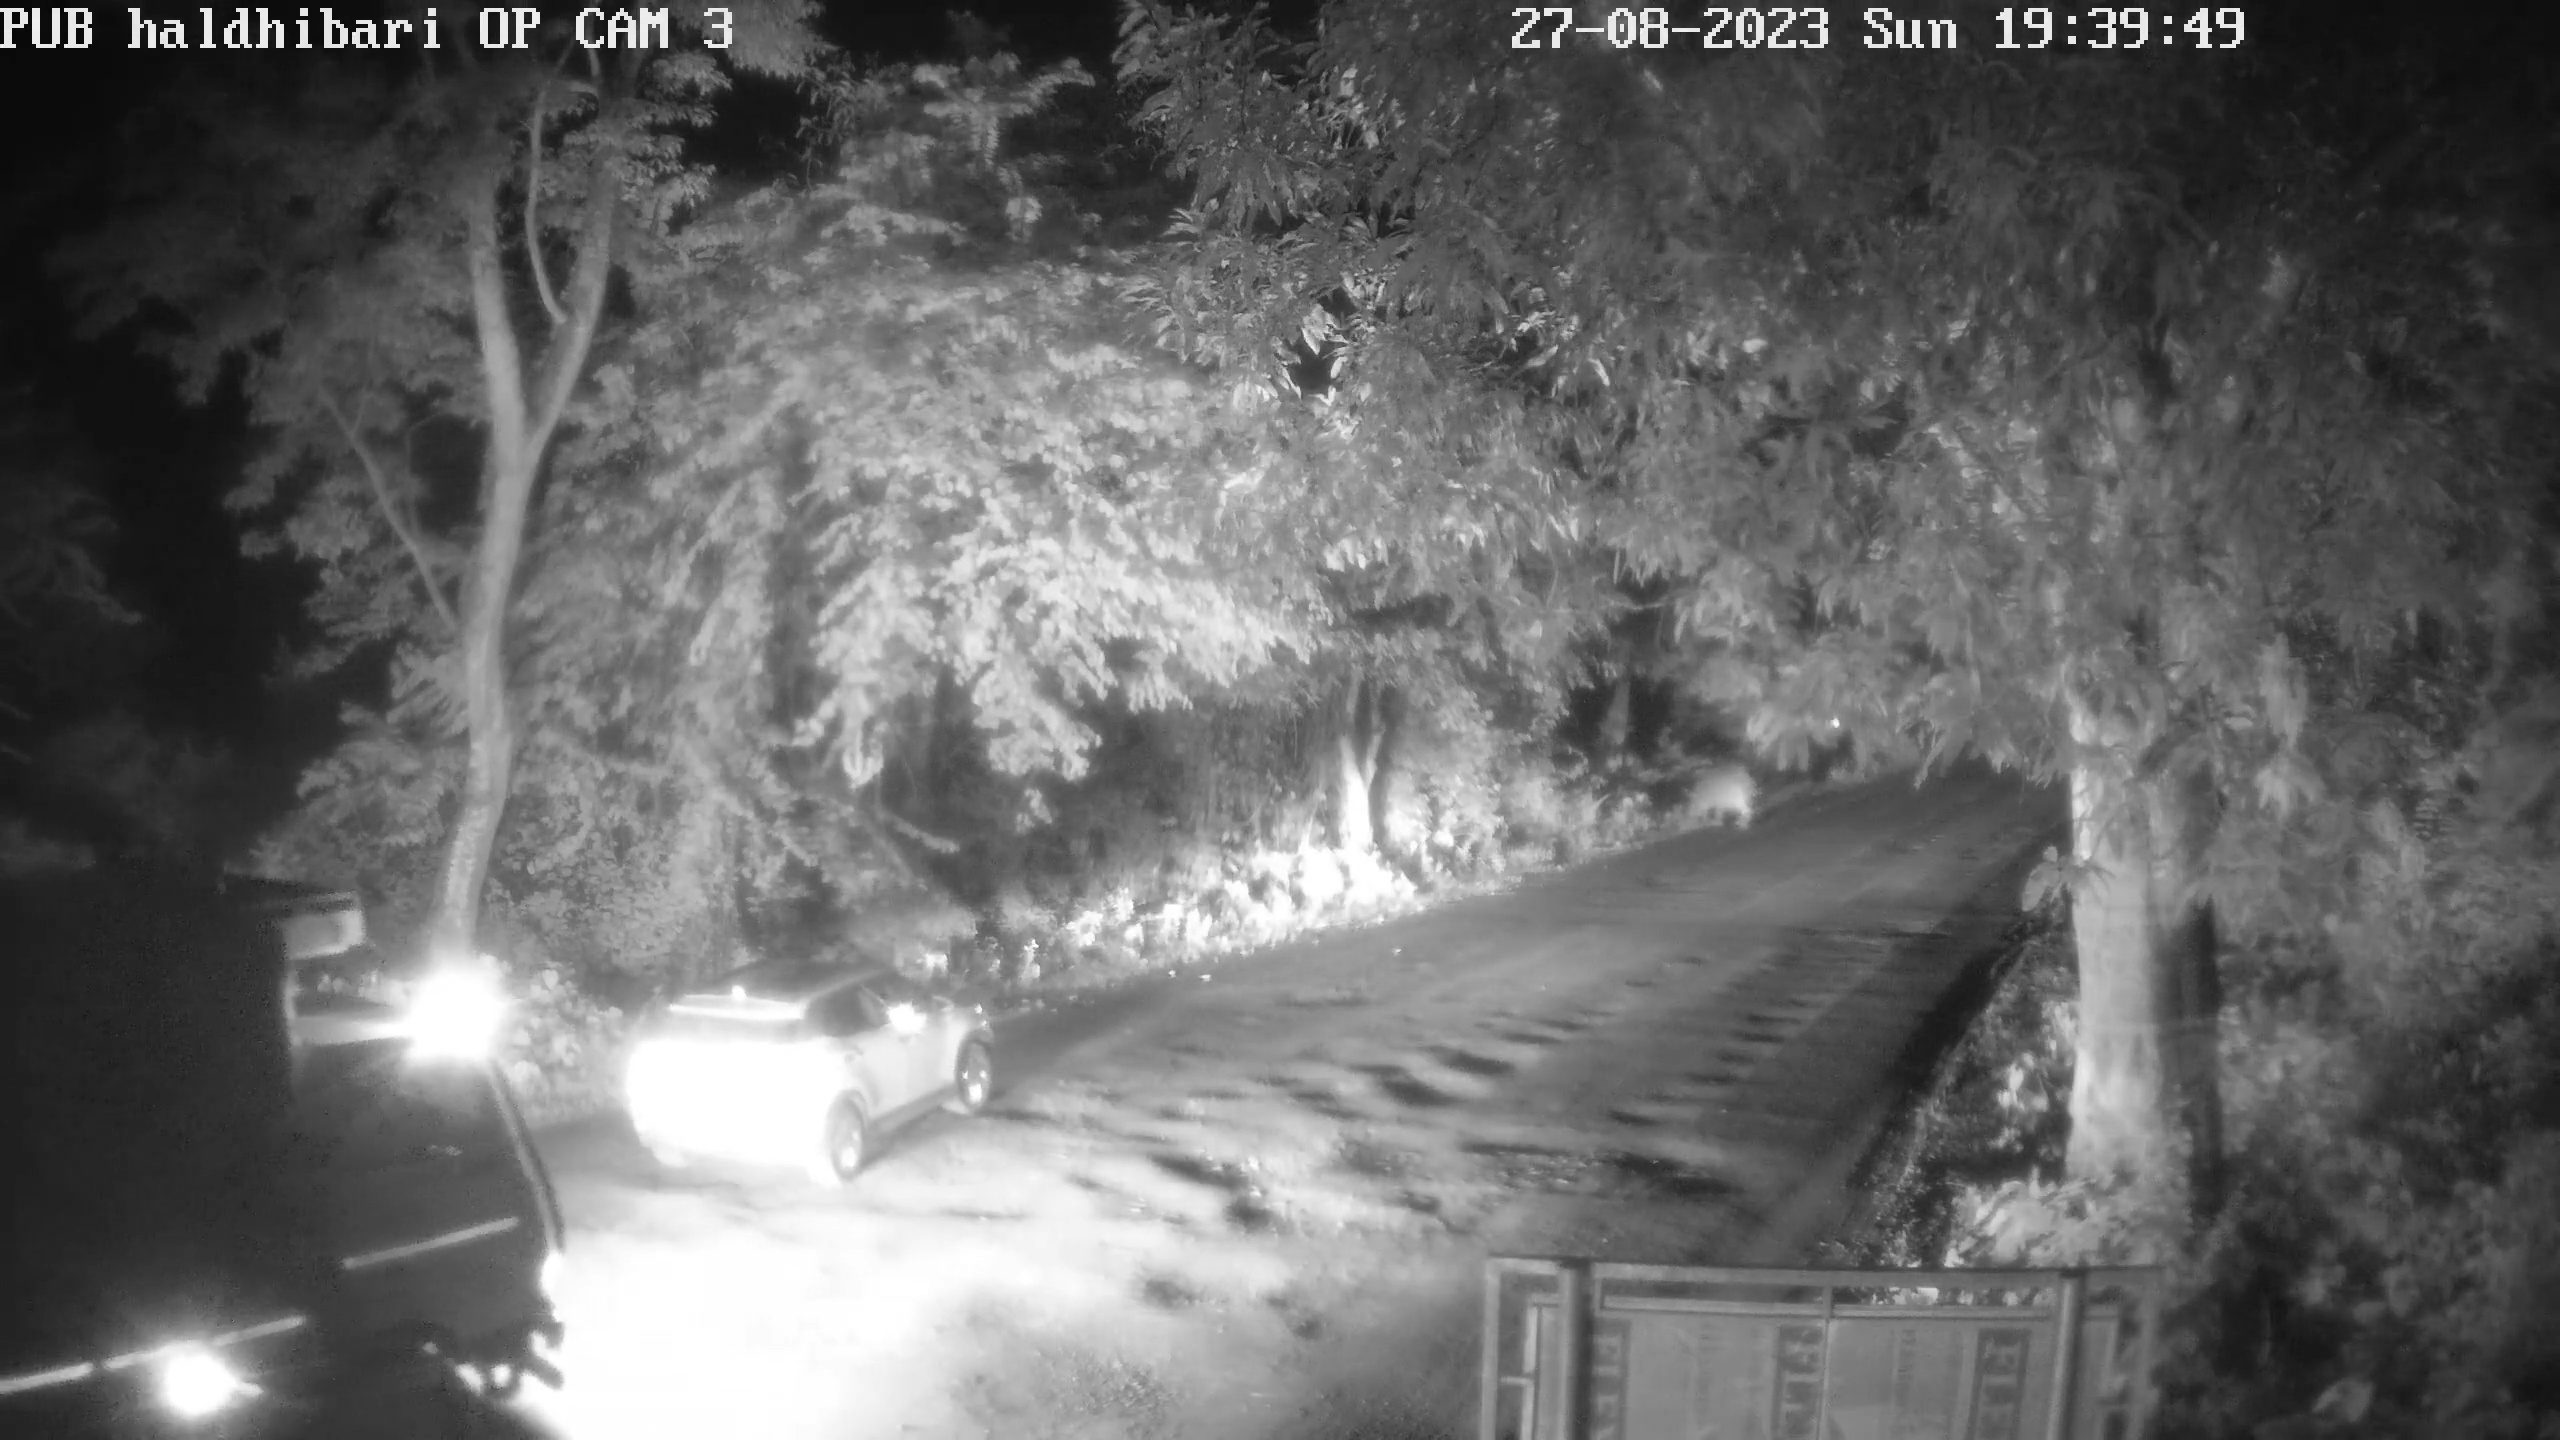rhinos: (1676, 758, 1762, 828)
